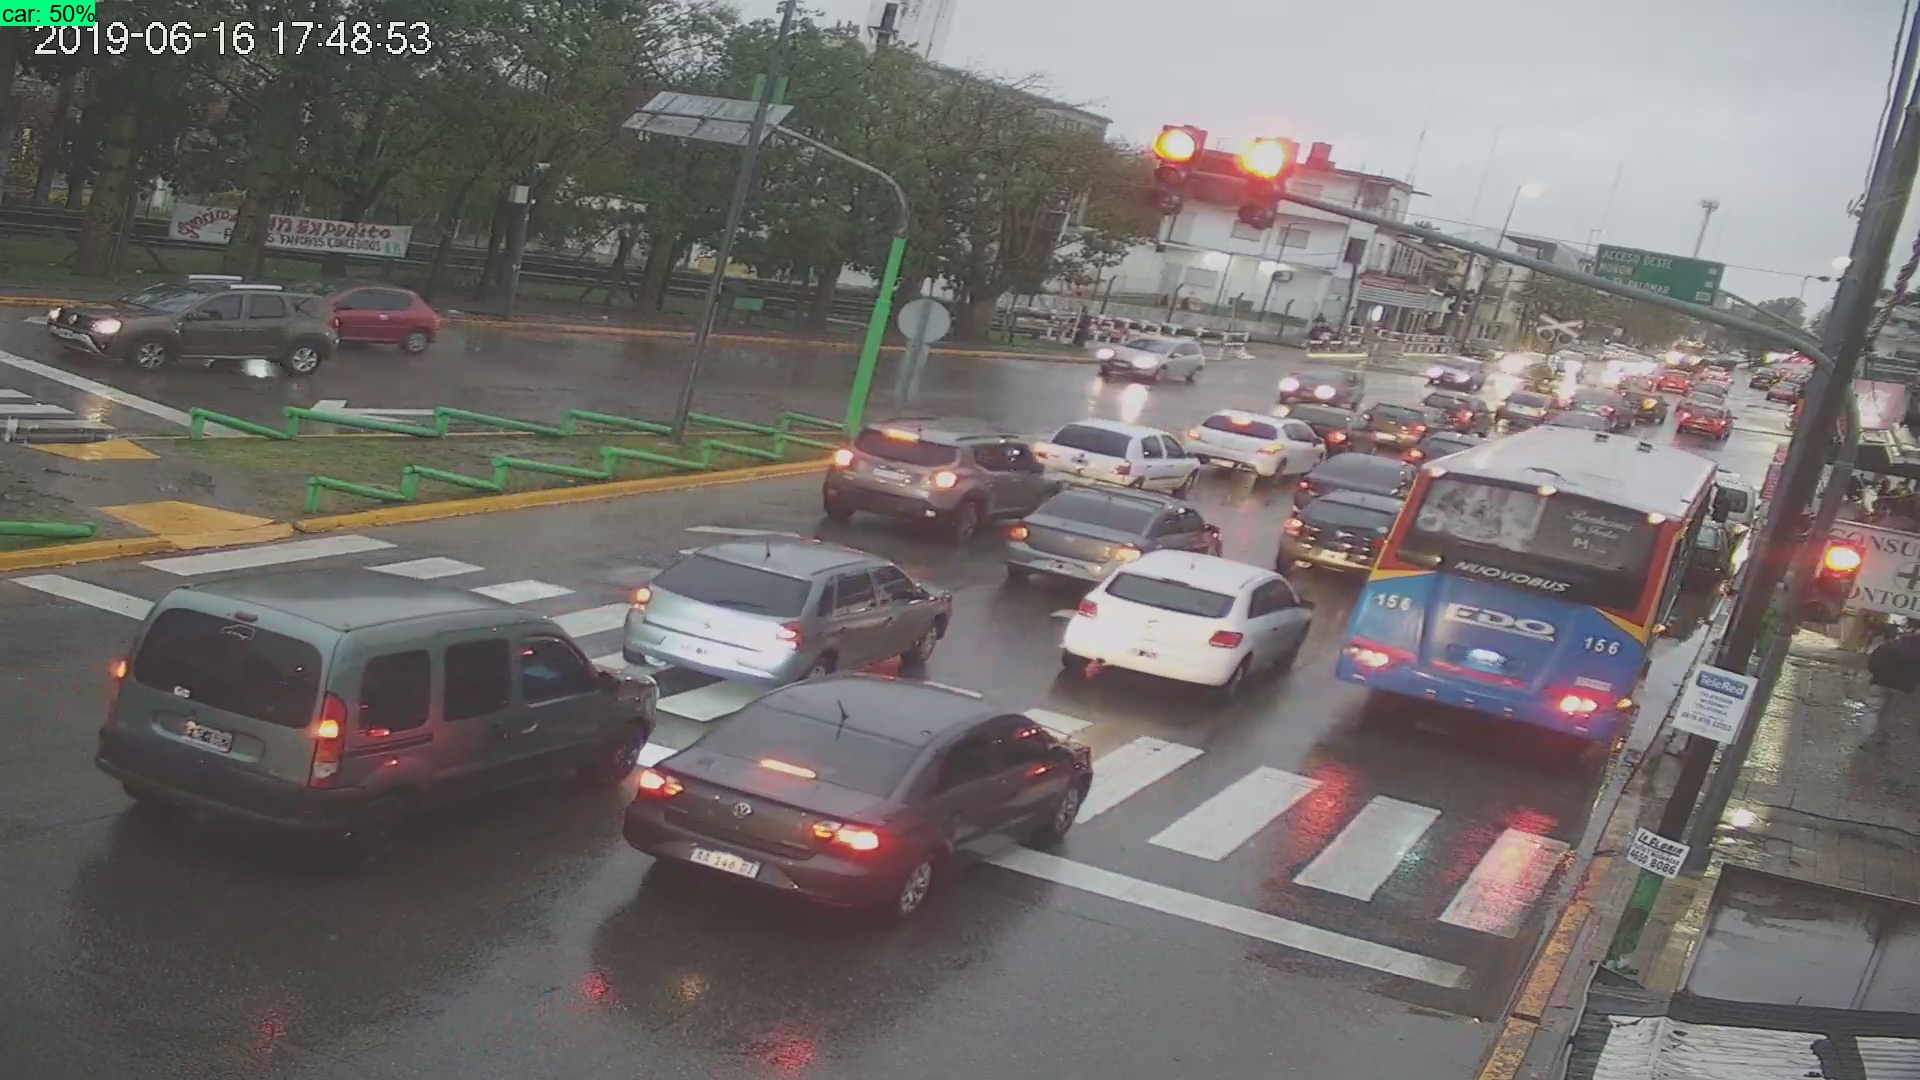bus: (1338, 425, 1734, 767)
car: (88, 566, 663, 864), (613, 666, 1109, 920), (615, 521, 967, 696), (1052, 538, 1315, 704), (47, 272, 340, 388), (818, 414, 1059, 541), (1009, 472, 1226, 584), (1188, 405, 1329, 483), (1087, 323, 1220, 389)
